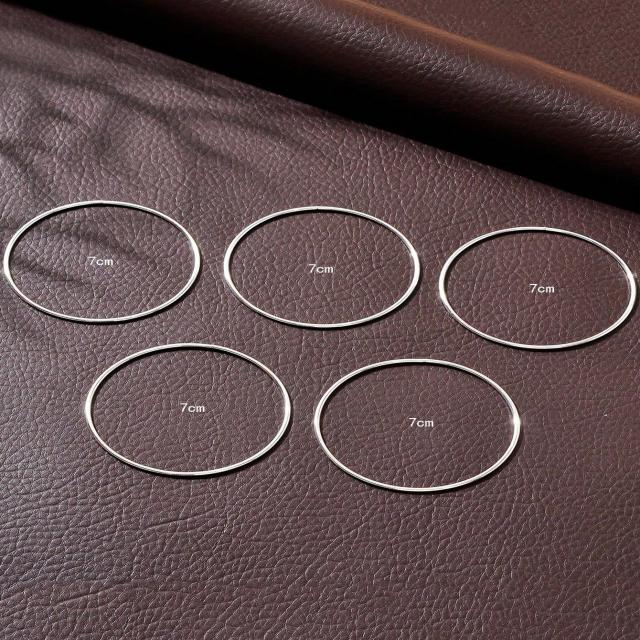bracelet: (0, 104, 217, 343), (199, 151, 437, 341), (67, 332, 311, 502), (320, 322, 546, 504), (420, 186, 640, 361)
